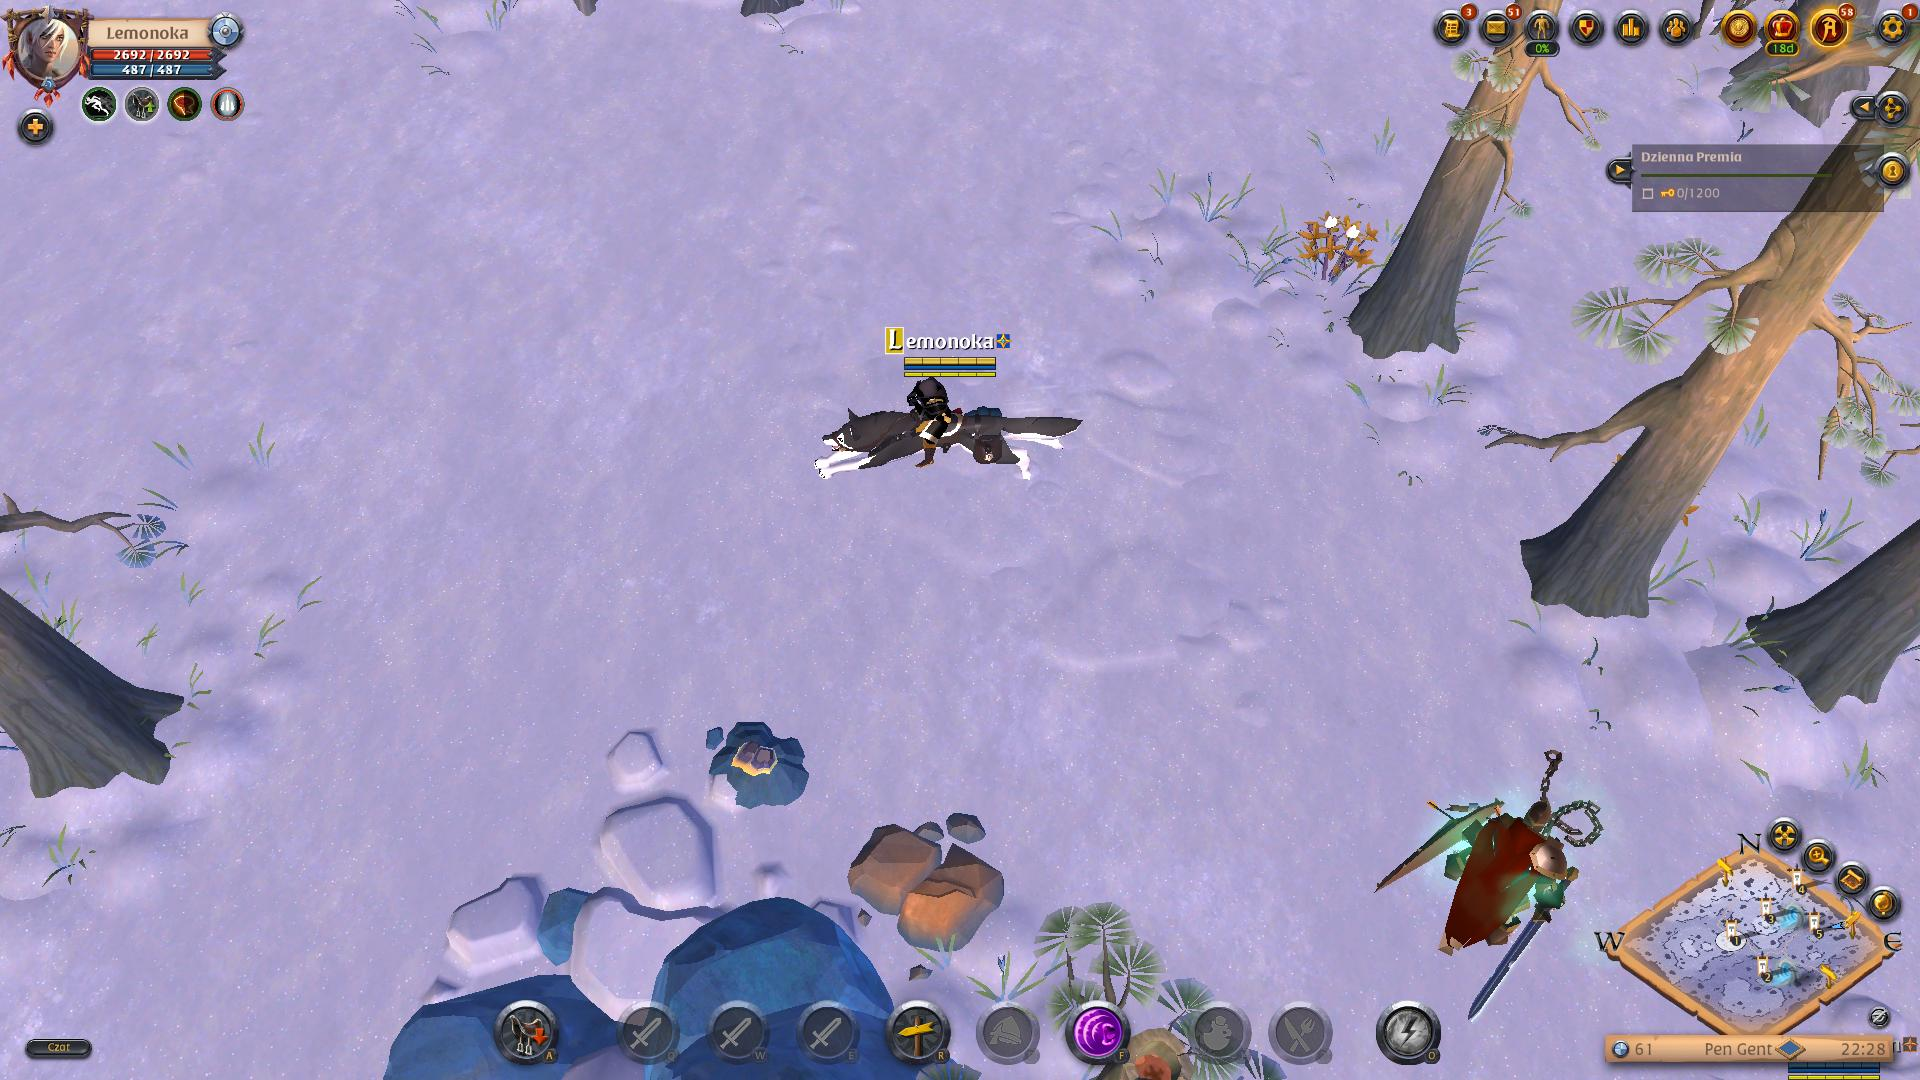fiber tier 2: (1295, 204, 1379, 290)
ore tier 2: (702, 712, 814, 815)
rock tier 2: (848, 807, 1009, 956)
